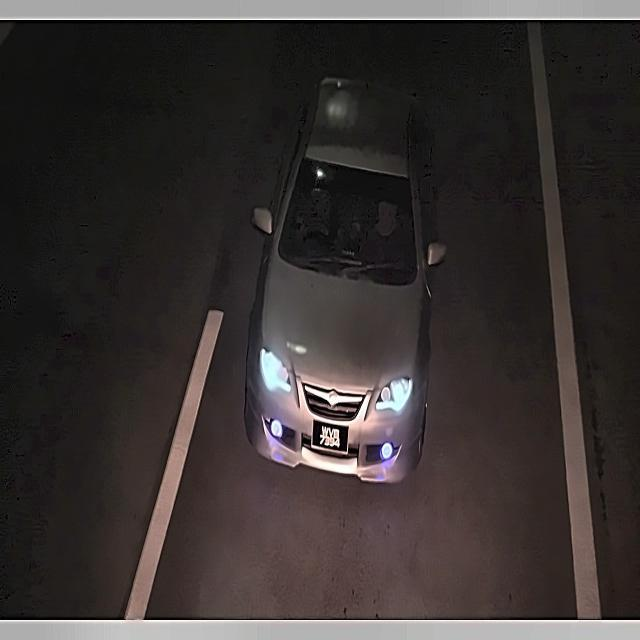car: (308, 412, 356, 461)
